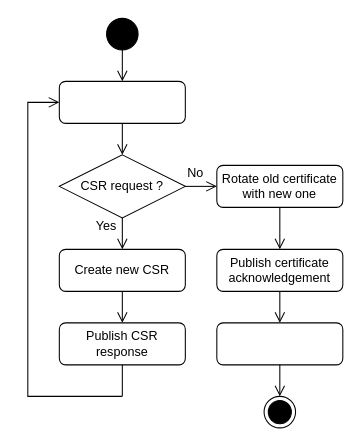
Some shapes in this 361 by 446 pixel diagram are drawn without their labels. Here are the shapes that lost their labels. From the top down, the centre of each, then its label:
At pixel 121 101: "Idle".
At pixel 279 343: "Restart Greengrass service".
